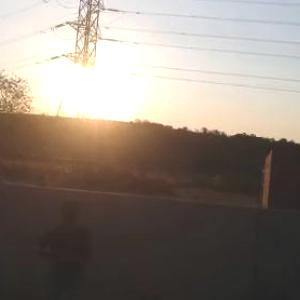follow: (28, 191, 92, 299)
